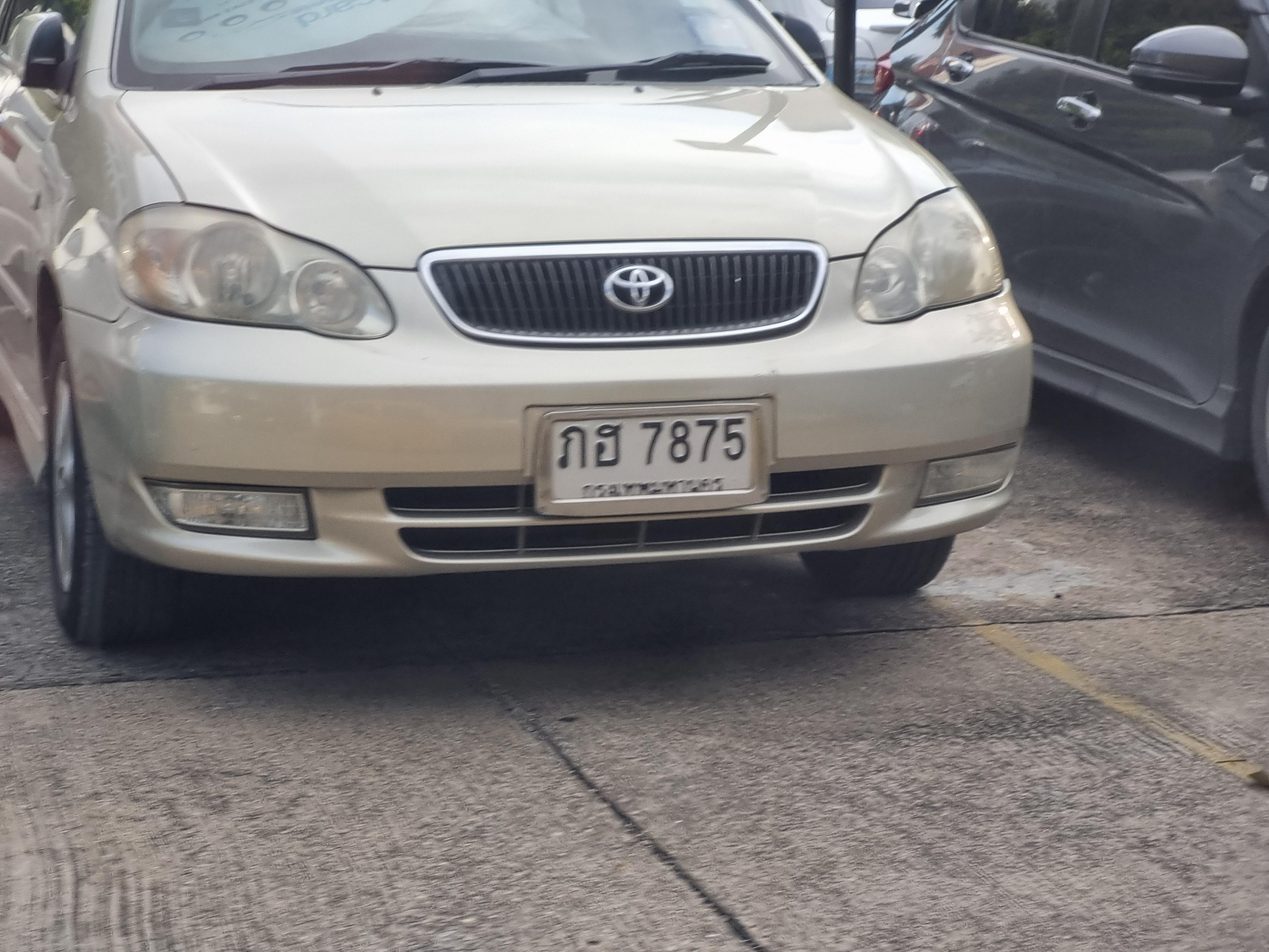license-plate: (529, 401, 768, 525)
